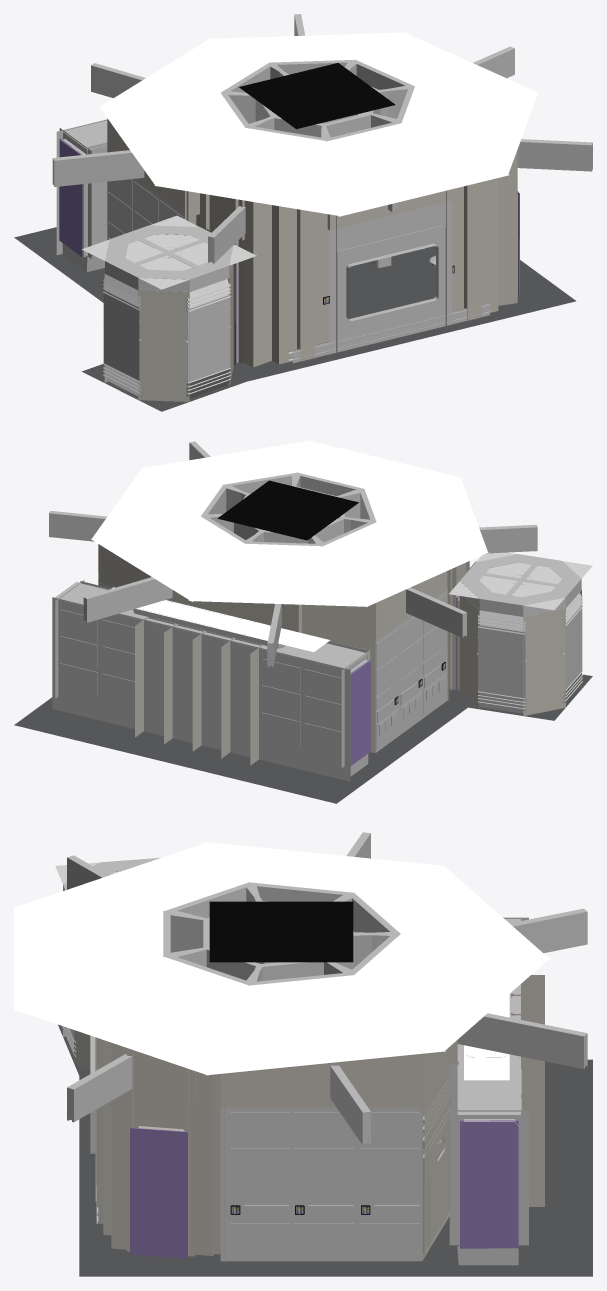
File: sutherlandbridge3.fbx
The picture shows the model from 3 angles, top to bottom: view 1: azimuth 30°, elevation 25°; view 2: azimuth 150°, elevation 25°; view 3: azimuth 270°, elevation 25°; orthographic projection. The views are drawn at different scales.
Parts seen in each view (by area): view 1: Plane.043, Plane.011, Plane.016, Circle, Plane.012, Plane.022, Plane.020, Plane.026, Plane.045, Plane.034, Plane.037, Plane.024 (+15 smaller); view 2: Plane.043, Plane.010, Plane.009, Circle, Plane.012, Plane.022, Plane.026, Plane.020, Plane.045, Plane.034, Cube.000, Plane.024 (+16 smaller); view 3: Plane.043, Circle, Plane.009, Plane.022, Plane.012, Plane.020, Plane.045, Plane.011, Plane.007, Plane.005, Plane.001, Plane.017 (+12 smaller).
Part boxes in pixels (bbox=[...]): Plane.043: bbox=[99, 32, 538, 216]; Plane.011: bbox=[185, 179, 517, 367]; Plane.016: bbox=[330, 201, 452, 354]; Circle: bbox=[14, 227, 576, 381]; Plane.012: bbox=[52, 14, 592, 263]; Plane.022: bbox=[107, 38, 517, 243]; Plane.020: bbox=[221, 59, 414, 141]; Plane.026: bbox=[104, 264, 233, 401]; Plane.045: bbox=[239, 63, 395, 129]; Plane.034: bbox=[105, 225, 233, 291]; Plane.037: bbox=[82, 215, 256, 289]; Plane.024: bbox=[188, 295, 230, 382]; Plane.043: bbox=[91, 440, 488, 606]; Plane.010: bbox=[52, 597, 350, 781]; Plane.009: bbox=[59, 593, 445, 756]; Circle: bbox=[14, 689, 467, 803]; Plane.012: bbox=[49, 441, 537, 667]; Plane.022: bbox=[98, 544, 469, 641]; Plane.026: bbox=[459, 590, 581, 715]; Plane.020: bbox=[201, 472, 376, 546]; Plane.045: bbox=[217, 480, 358, 540]; Plane.034: bbox=[460, 554, 581, 616]; Cube.000: bbox=[135, 617, 261, 765]; Plane.024: bbox=[478, 625, 525, 698]; Plane.043: bbox=[14, 842, 550, 1075]; Circle: bbox=[79, 1059, 592, 1276]; Plane.009: bbox=[230, 1069, 521, 1256]; Plane.022: bbox=[95, 1037, 457, 1107]; Plane.012: bbox=[67, 832, 587, 1145]; Plane.020: bbox=[163, 882, 400, 985]; Plane.045: bbox=[209, 901, 353, 962]; Plane.011: bbox=[95, 1047, 224, 1261]; Plane.007: bbox=[220, 1107, 422, 1261]; Plane.005: bbox=[422, 1064, 450, 1260]; Plane.001: bbox=[489, 1120, 518, 1248]; Plane.017: bbox=[460, 1120, 489, 1248].
Bounding box in the file's own units: 1988 × 745 × 1613.
